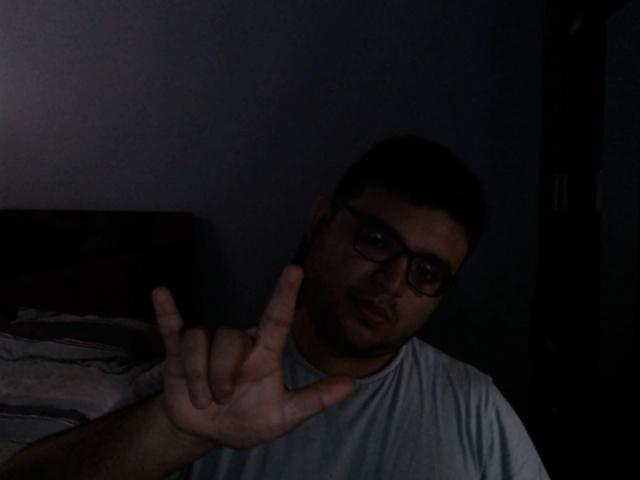I love you: (137, 263, 358, 455)
